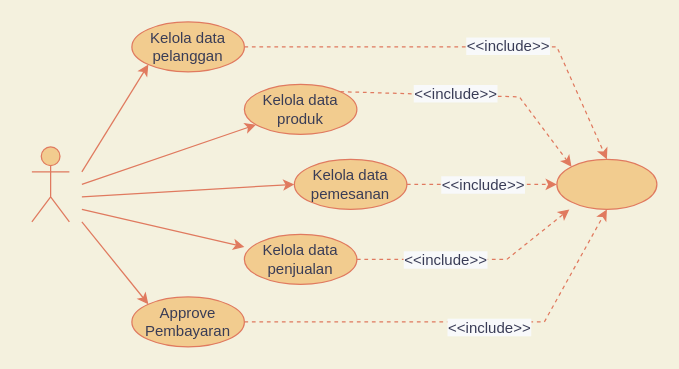
Image size: 679x369. Some labels were removed from this diagram. The box of each missing label's shape, as (x1, y1, x2, y2) in pixels:
login: (556, 158, 657, 209)
Pegawai: (31, 146, 69, 222)
